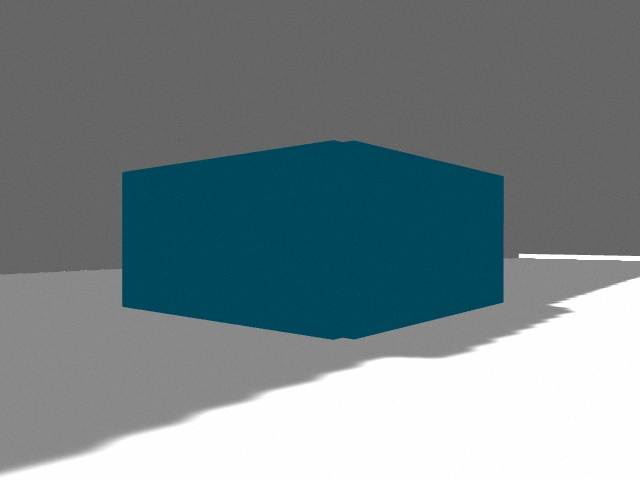blue_drop_zone: (122, 140, 504, 340)
